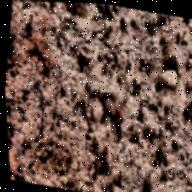boar: (88, 77, 129, 139)
